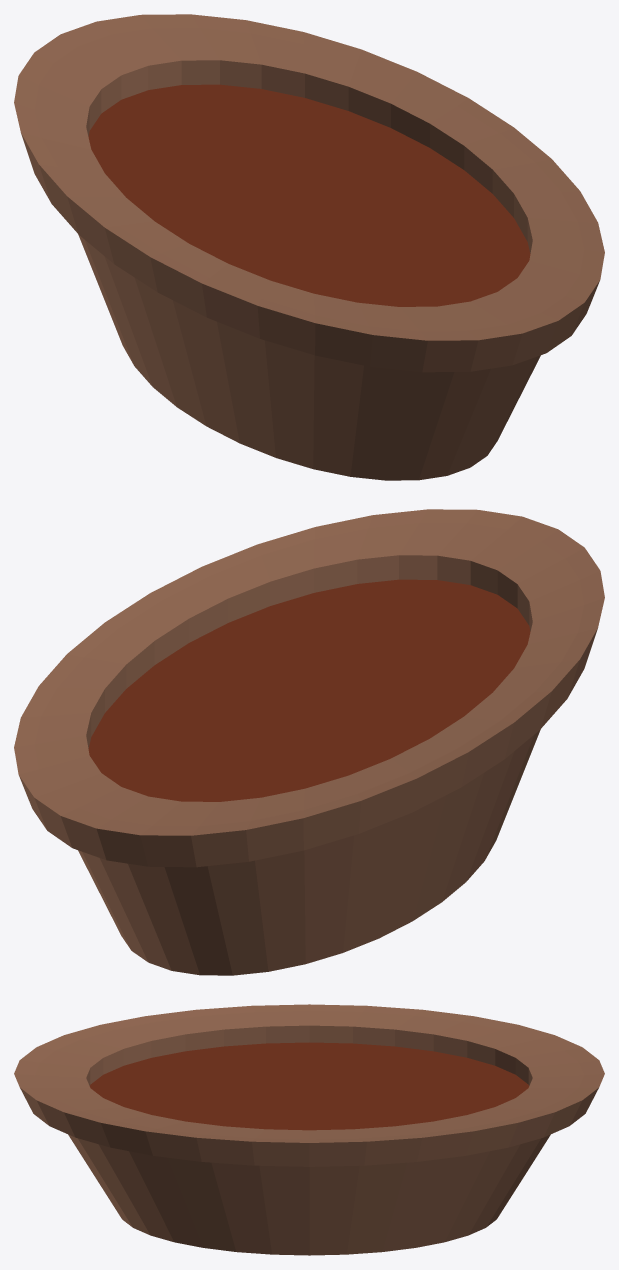
The model's file is Pot_2c_pot.fbx.
3 views of the same model, one above another, from view 1: azimuth 30°, elevation 25°; view 2: azimuth 150°, elevation 25°; view 3: azimuth 270°, elevation 25° (orthographic). The views are drawn at different scales.
Parts seen in each view (by area): view 1: Cylinder; view 2: Cylinder; view 3: Cylinder.
Boxes of the visible parts, <box> form: Cylinder: <box>14,14,604,480</box>; Cylinder: <box>14,509,604,975</box>; Cylinder: <box>14,1004,604,1255</box>.
Bounding box in the file's own units: 104 × 47.79 × 187.
